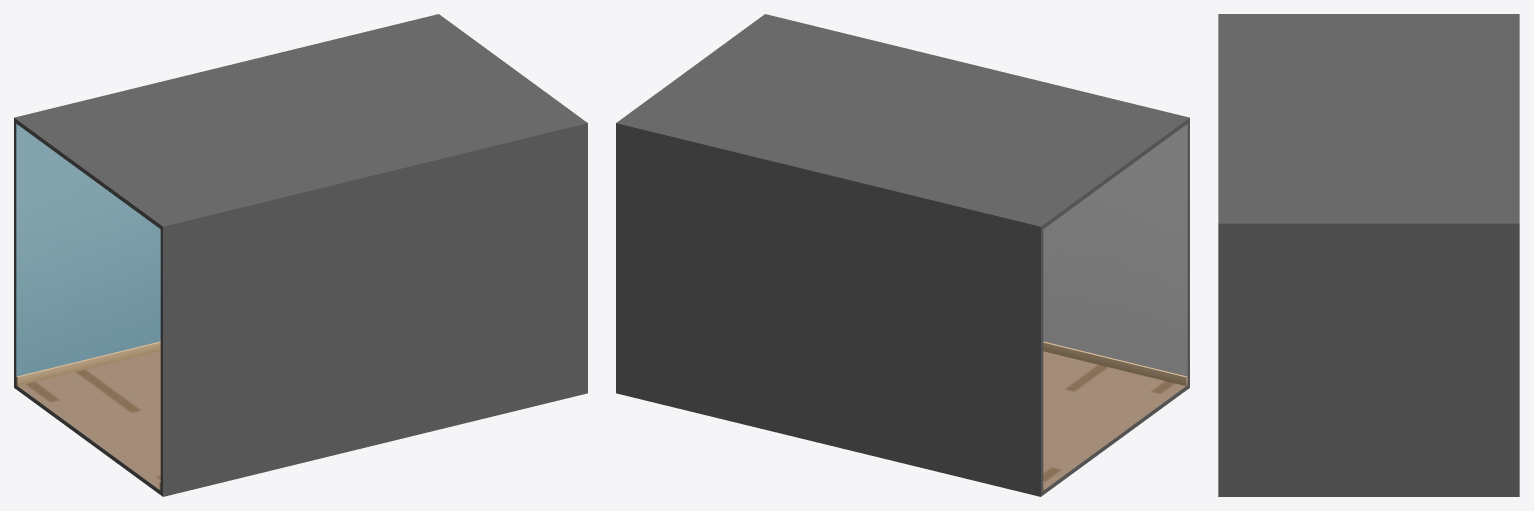
The model's file is OfficeWalls.FBX.
3 views of the same model, side by side, from view 1: azimuth 30°, elevation 25°; view 2: azimuth 150°, elevation 25°; view 3: azimuth 270°, elevation 25° (orthographic).
Visible parts, largest first — view 1: Building; view 2: Building; view 3: Building.
Part boxes in pixels (x1=…): Building: x1=14, y1=14, x2=587, y2=496; Building: x1=616, y1=14, x2=1189, y2=496; Building: x1=1218, y1=14, x2=1519, y2=496.
Size of the model in its own units: 201 by 122 by 122.
